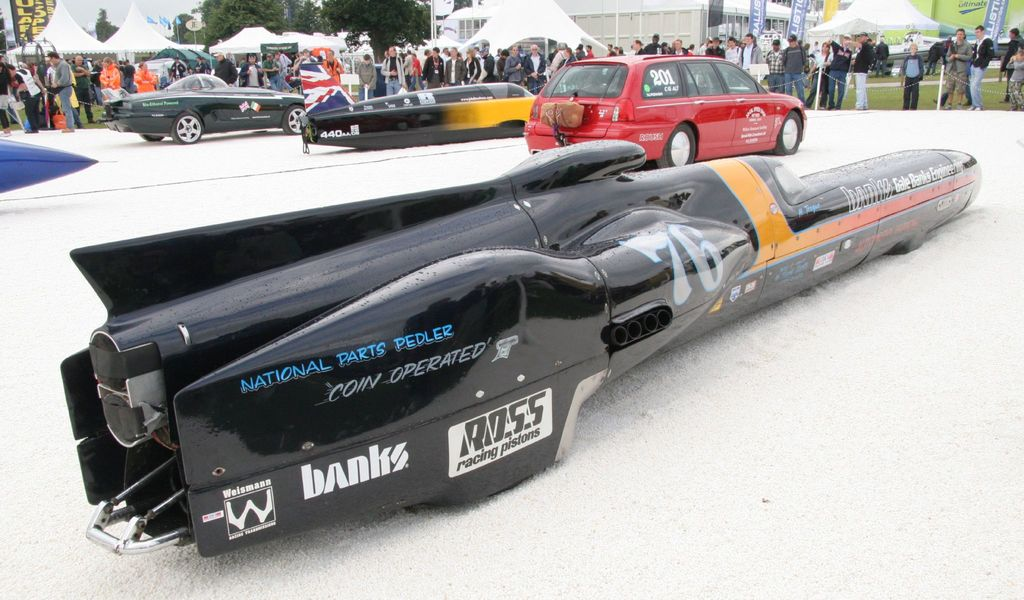Car: (60, 139, 986, 561), (526, 54, 805, 162), (106, 58, 312, 137), (300, 82, 542, 139)
